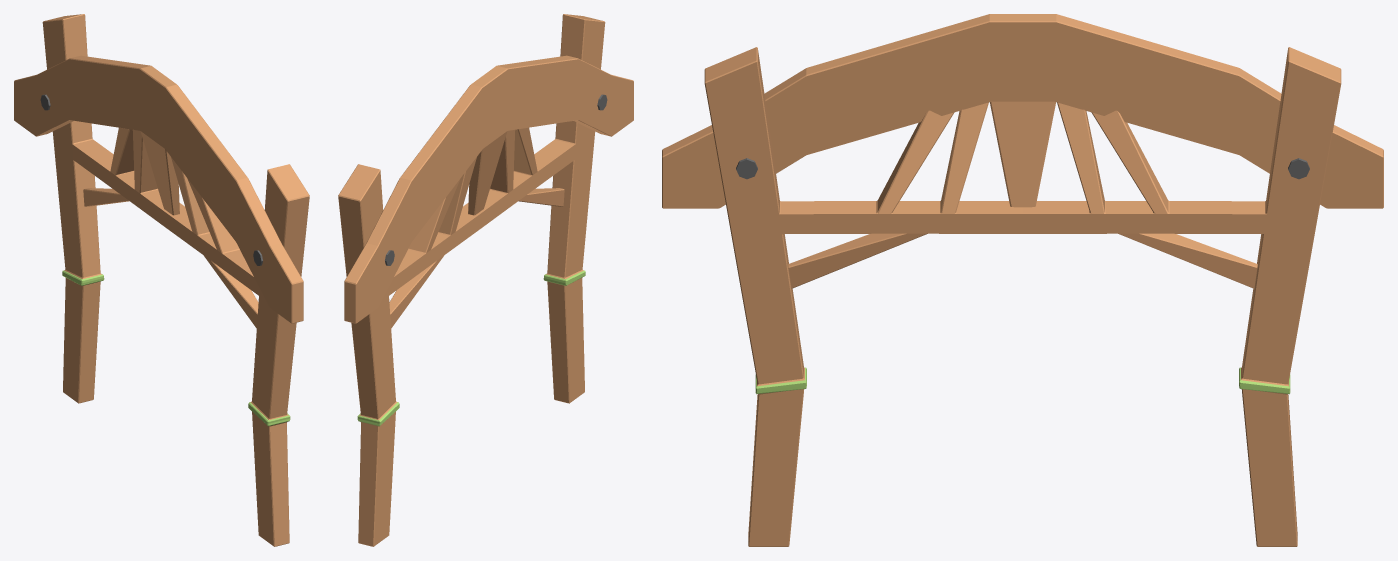
Rendered from gate.fbx.
3 views of the same model, side by side, from view 1: azimuth 30°, elevation 25°; view 2: azimuth 150°, elevation 25°; view 3: azimuth 270°, elevation 25° (orthographic). The views are drawn at different scales.
Visible parts, largest first — view 1: Cylinder; view 2: Cylinder; view 3: Cylinder.
Boxes of the visible parts, x1,y1,x2,y2 form: Cylinder: (14,14,309,546); Cylinder: (338,14,633,546); Cylinder: (662,14,1383,546).
Bounding box in the file's own units: 38.38 × 376 × 479.
